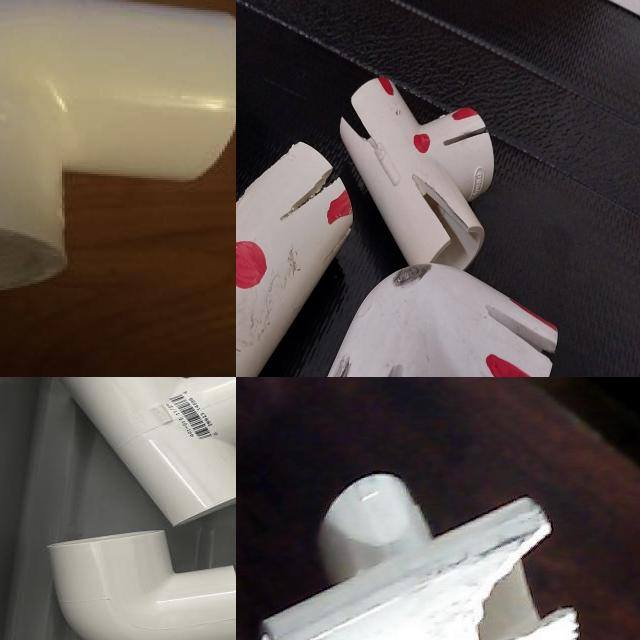Defective: (438, 525, 577, 640), (306, 253, 340, 326), (255, 181, 291, 236), (290, 150, 318, 201), (386, 123, 402, 173), (304, 319, 328, 345), (430, 44, 446, 74)
L Joint: (46, 531, 236, 640), (330, 20, 444, 174)
T Joint: (259, 474, 581, 640), (236, 12, 356, 367), (57, 377, 236, 528), (266, 330, 419, 377)
